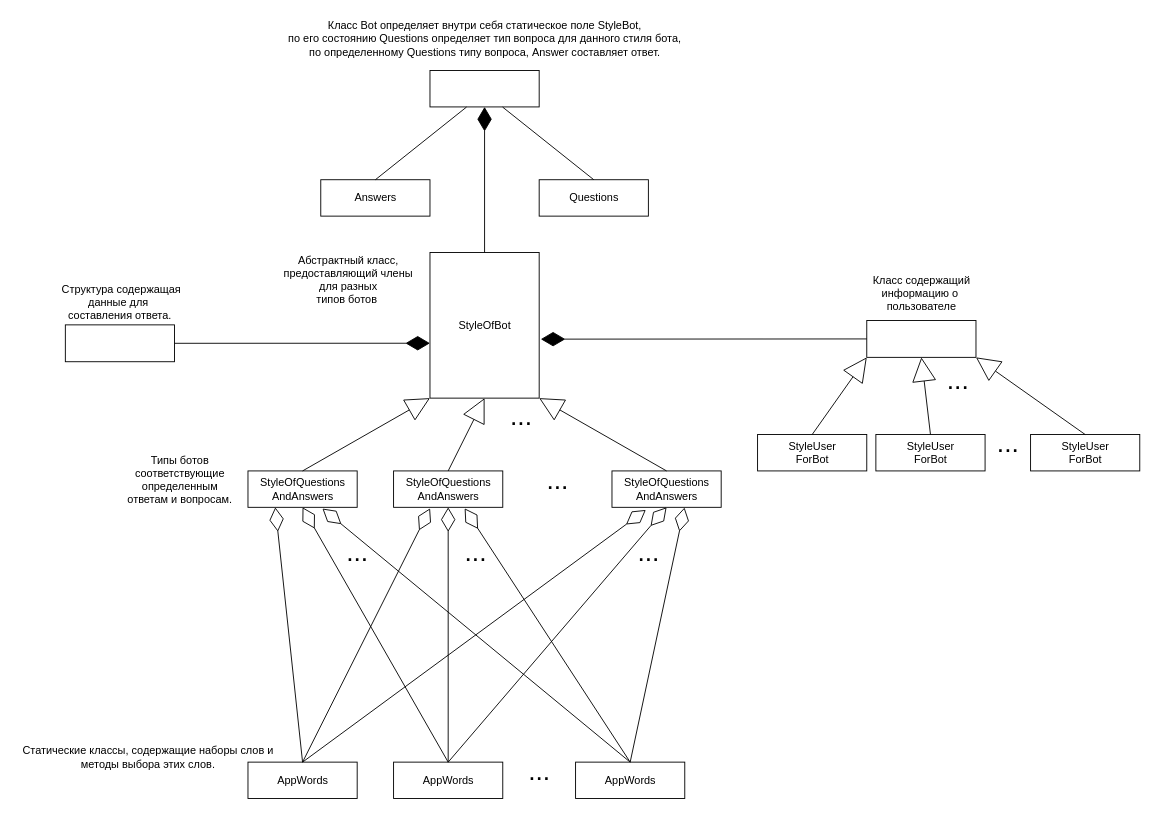
The diagram is 1156 pixels wide and 814 high, and some of its shapes have lost their labels. The box of each missing label's shape, as (x1, y1, x2, y2) in pixels:
Bot: (429, 70, 539, 107)
PackForAnswer: (64, 324, 175, 362)
User: (866, 320, 976, 357)
